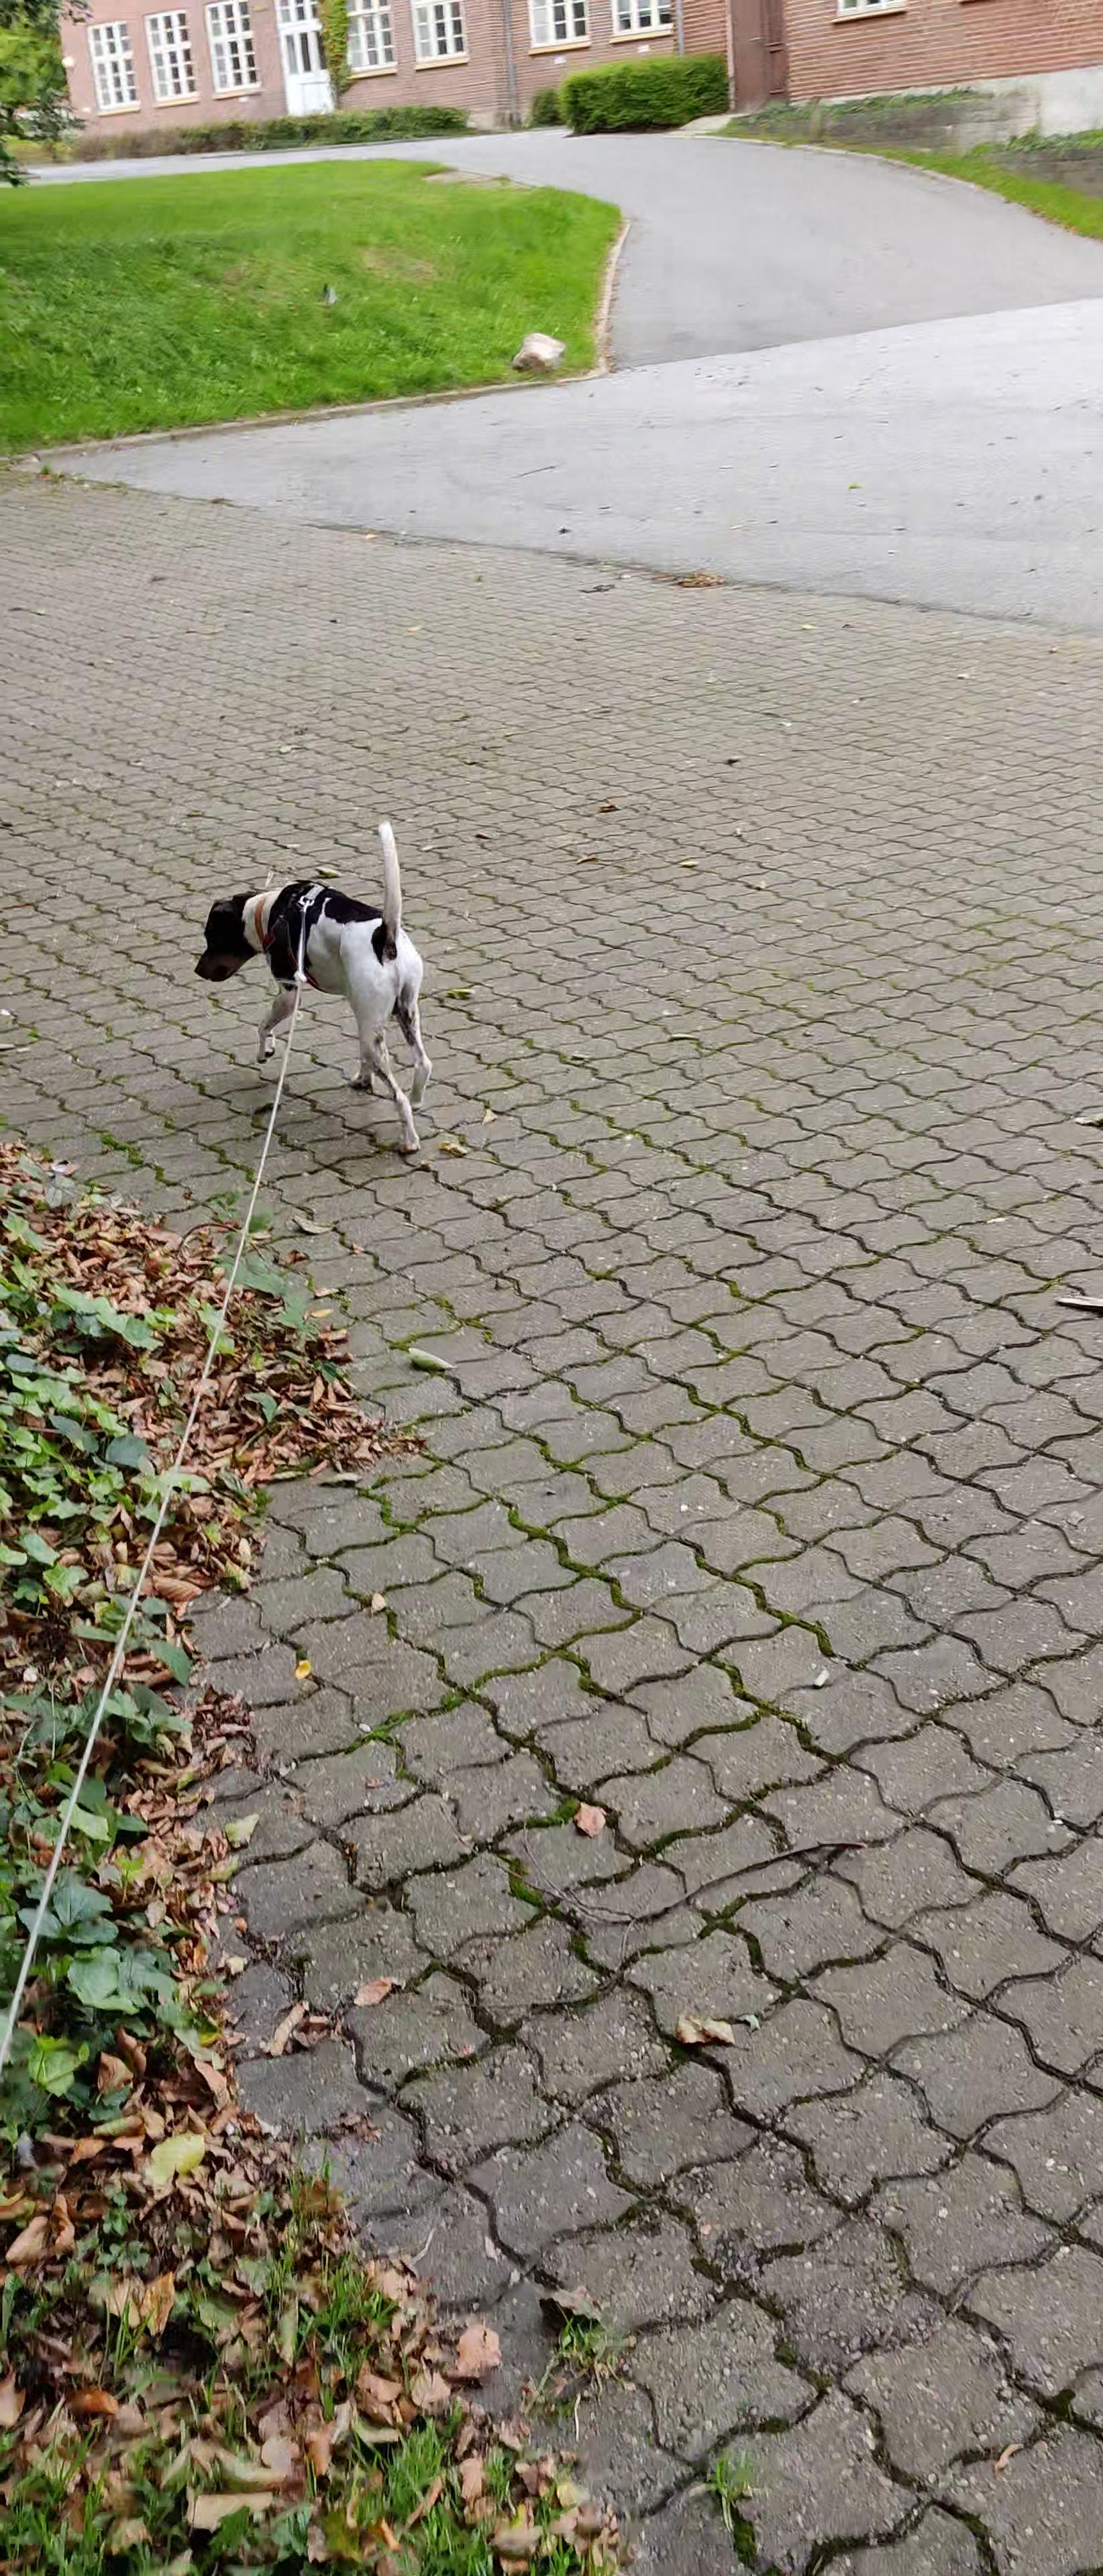Dog: (182, 810, 445, 1157)
